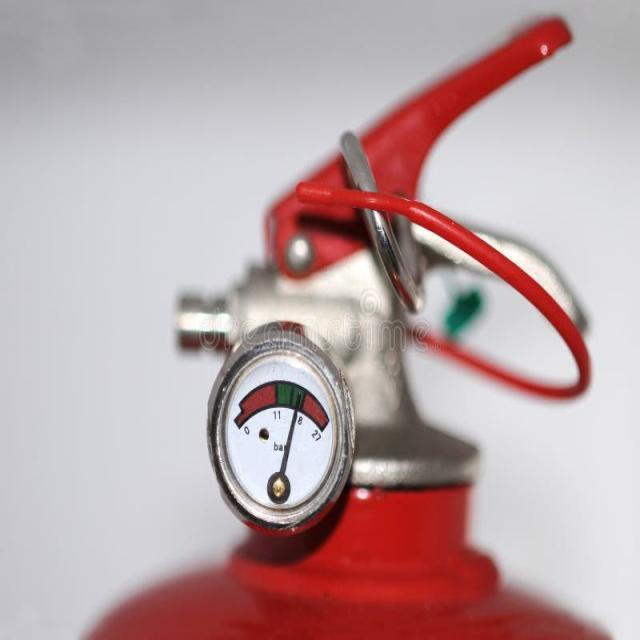pressure gauge: (208, 323, 354, 533)
